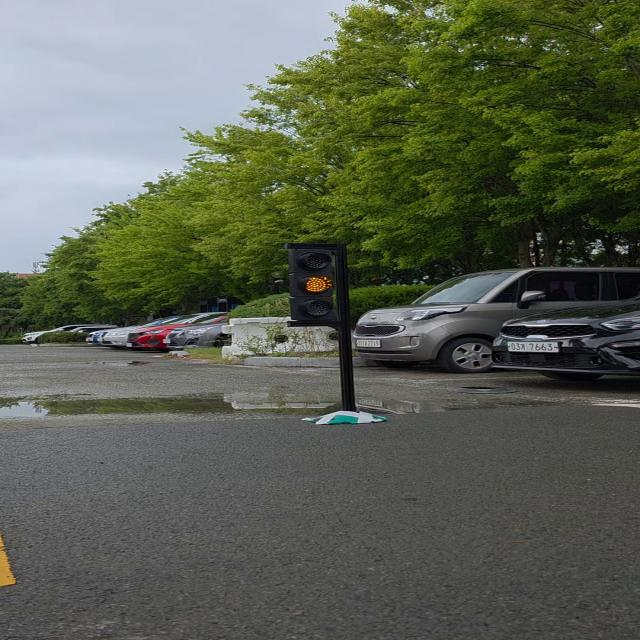yellow: (286, 240, 351, 328)
